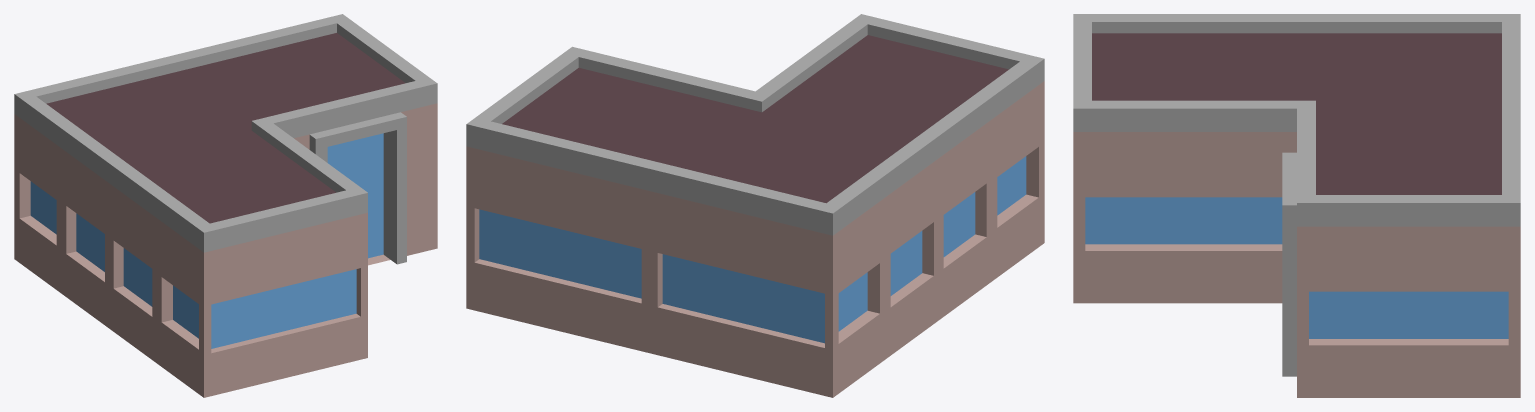
File: building_L_1_g.glb
The picture shows the model from 3 angles, left to right: view 1: azimuth 30°, elevation 25°; view 2: azimuth 150°, elevation 25°; view 3: azimuth 270°, elevation 25°; orthographic projection. The views are drawn at different scales.
Parts seen in each view (by area): view 1: Cube; view 2: Cube; view 3: Cube.
Boxes of the visible parts, x1,y1,x2,y2 form: Cube: (14, 14, 437, 397); Cube: (466, 14, 1044, 397); Cube: (1073, 14, 1520, 397).
Size of the model in its own units: 3.33 by 1.6 by 3.33.
